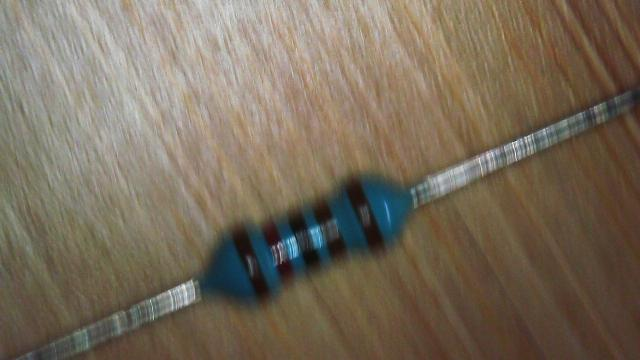black: (288, 210, 320, 268)
brown: (232, 228, 270, 300), (346, 180, 384, 252), (312, 201, 346, 258)
red: (262, 221, 294, 282)
resistor: (196, 140, 438, 326)
